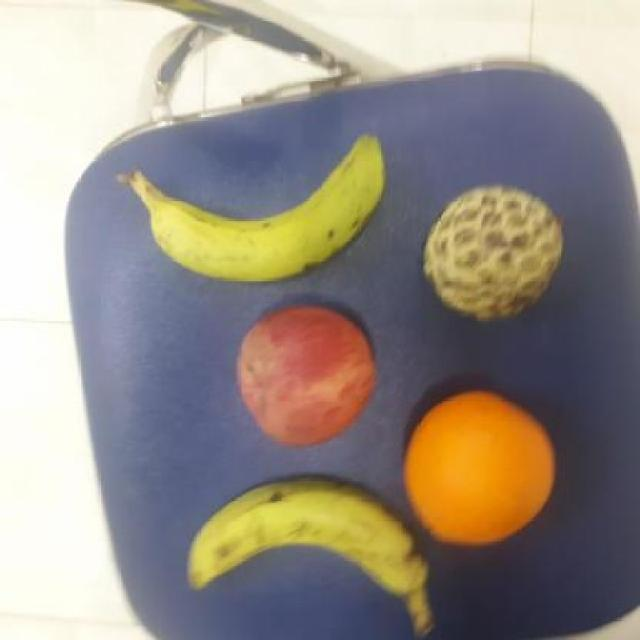apple: (231, 304, 382, 448)
banana: (124, 136, 391, 287), (181, 470, 434, 598)
oren: (396, 388, 562, 545)
sugar apple: (414, 177, 566, 321)
